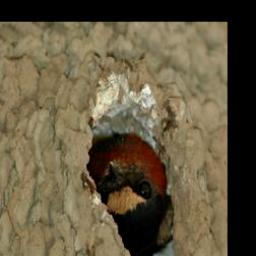Swallow: (86, 133, 169, 256)
